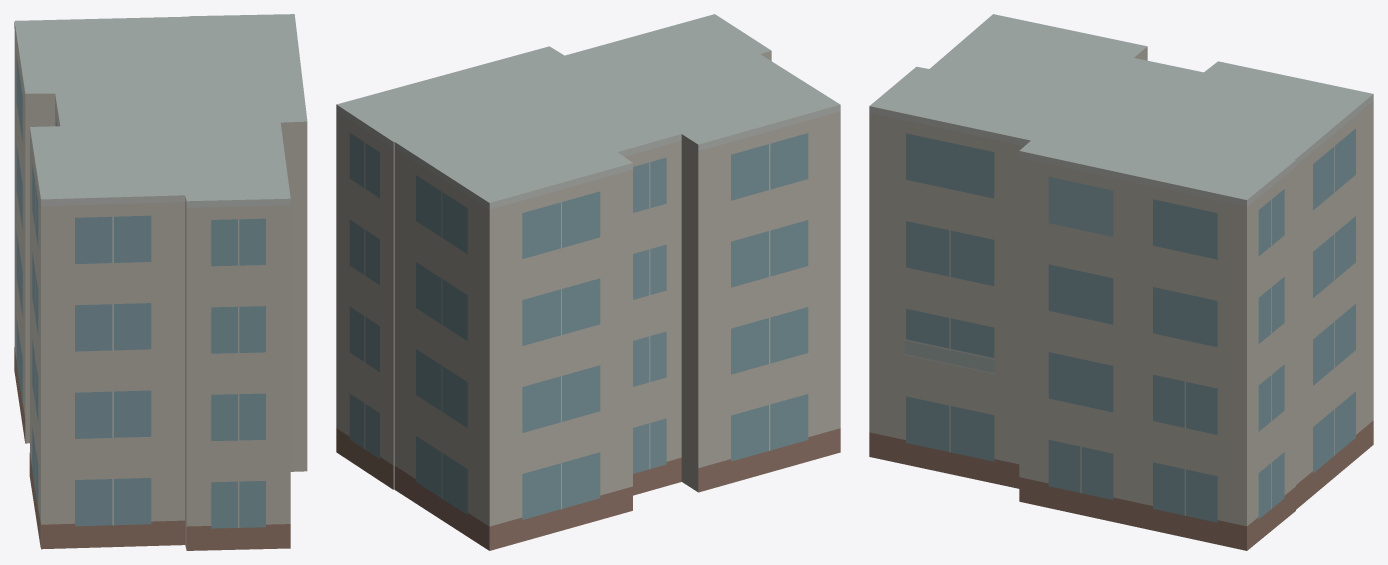
Rendered from survey-upis-32527412.glb.
The picture shows the model from 3 angles, left to right: view 1: azimuth 30°, elevation 25°; view 2: azimuth 150°, elevation 25°; view 3: azimuth 270°, elevation 25°; orthographic projection.
Parts seen in each view (by area): view 1: survey-upis-32527412.tmp; view 2: survey-upis-32527412.tmp; view 3: survey-upis-32527412.tmp.
Part boxes in pixels (x1,y1,x2,y2): survey-upis-32527412.tmp: [14, 14, 307, 550]; survey-upis-32527412.tmp: [336, 14, 840, 550]; survey-upis-32527412.tmp: [869, 14, 1373, 550].
Size of the model in its own units: 14.58 by 12.8 by 16.69.
